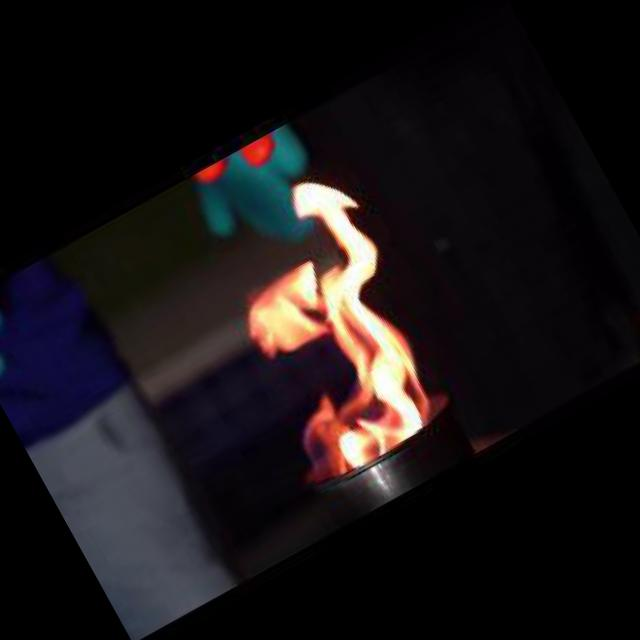fire: (178, 145, 477, 496)
